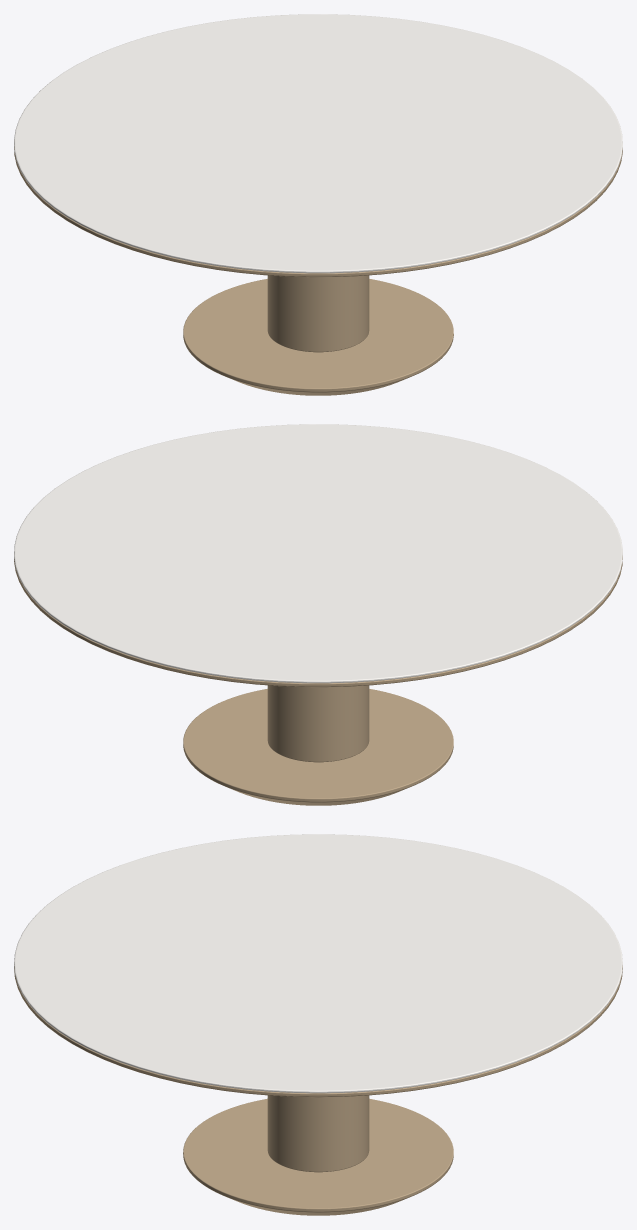
Rendered from orbit_d90h33_hoje.glb.
3 views of the same model, one above another, from view 1: azimuth 30°, elevation 25°; view 2: azimuth 150°, elevation 25°; view 3: azimuth 270°, elevation 25° (orthographic).
Parts seen in each view (by area): view 1: Top Orbit Coffee Table 023, Base Orbit Coffee Table 023, Base Element Orbit Coffee Table 026, Undertop Orbit Coffee Table 023; view 2: Top Orbit Coffee Table 023, Base Orbit Coffee Table 023, Base Element Orbit Coffee Table 026, Undertop Orbit Coffee Table 023; view 3: Top Orbit Coffee Table 023, Base Orbit Coffee Table 023, Base Element Orbit Coffee Table 026, Undertop Orbit Coffee Table 023.
Part boxes in pixels (x1,y1,x2,y2): Top Orbit Coffee Table 023: (14, 14, 622, 273); Base Orbit Coffee Table 023: (183, 279, 453, 395); Base Element Orbit Coffee Table 026: (267, 275, 369, 352); Undertop Orbit Coffee Table 023: (14, 146, 622, 277); Top Orbit Coffee Table 023: (14, 424, 622, 683); Base Orbit Coffee Table 023: (183, 689, 453, 805); Base Element Orbit Coffee Table 026: (267, 685, 369, 762); Undertop Orbit Coffee Table 023: (14, 556, 622, 687); Top Orbit Coffee Table 023: (14, 834, 622, 1093); Base Orbit Coffee Table 023: (183, 1098, 453, 1215); Base Element Orbit Coffee Table 026: (267, 1095, 369, 1172); Undertop Orbit Coffee Table 023: (14, 966, 622, 1097).
Size of the model in its own units: 0.9 by 0.334 by 0.9.
